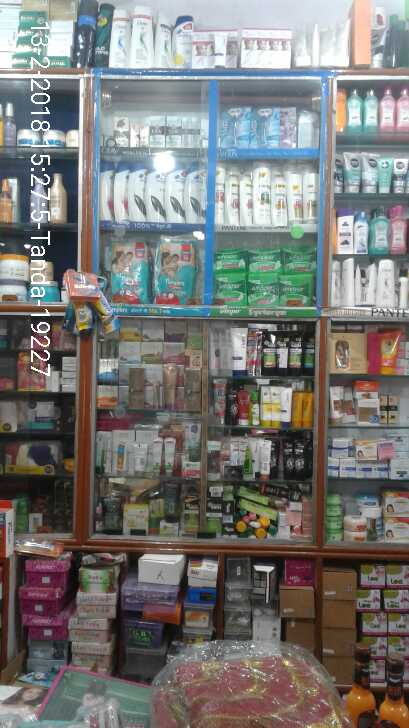venus: (223, 108, 254, 145), (254, 108, 281, 145), (297, 111, 319, 146), (281, 108, 297, 146)
